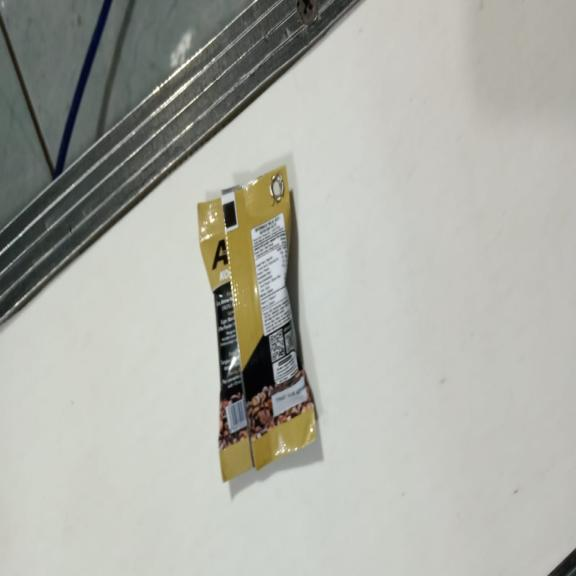Plastik: (198, 163, 319, 482)
